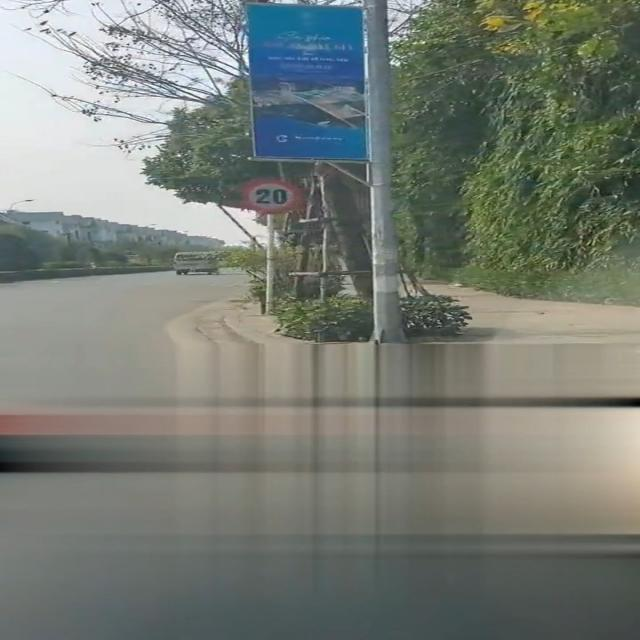127-toc-do-toi-da-20: (241, 178, 307, 214)
